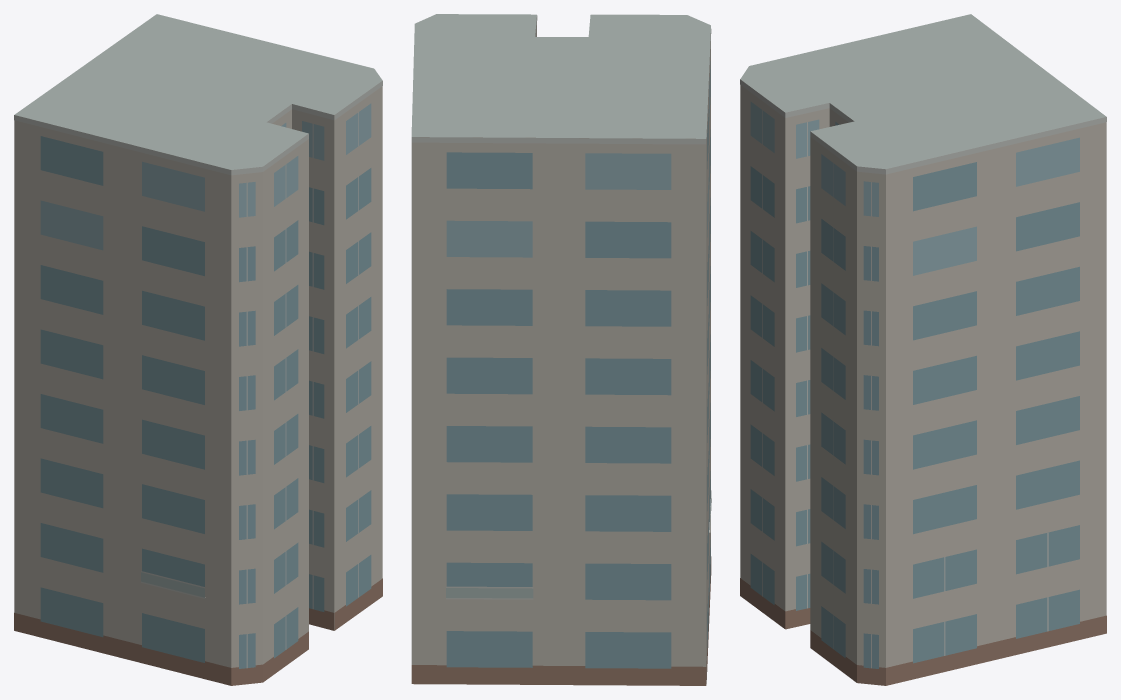
Rendered from survey-upis-32990049.glb.
The picture shows the model from 3 angles, left to right: view 1: azimuth 30°, elevation 25°; view 2: azimuth 150°, elevation 25°; view 3: azimuth 270°, elevation 25°; orthographic projection. The views are drawn at different scales.
Visible parts, largest first — view 1: survey-upis-32990049.tmp; view 2: survey-upis-32990049.tmp; view 3: survey-upis-32990049.tmp.
Boxes of the visible parts, bbox=[...] form: survey-upis-32990049.tmp: bbox=[14, 14, 382, 685]; survey-upis-32990049.tmp: bbox=[411, 14, 711, 685]; survey-upis-32990049.tmp: bbox=[740, 14, 1106, 685].
Bounding box in the file's own units: 15.28 × 23.7 × 15.25.
